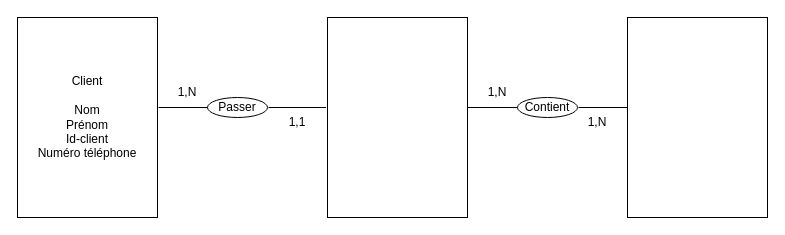
Some shapes in this 785 by 235 pixel diagram are drawn without their labels. Here are the shapes that lost their labels. From the top down, the box of each, then its label:
(326, 16, 468, 218): Commande Id-commande Date Statut
(626, 16, 768, 218): Plat Id-plat Nom Prix Catégorie Quantité
